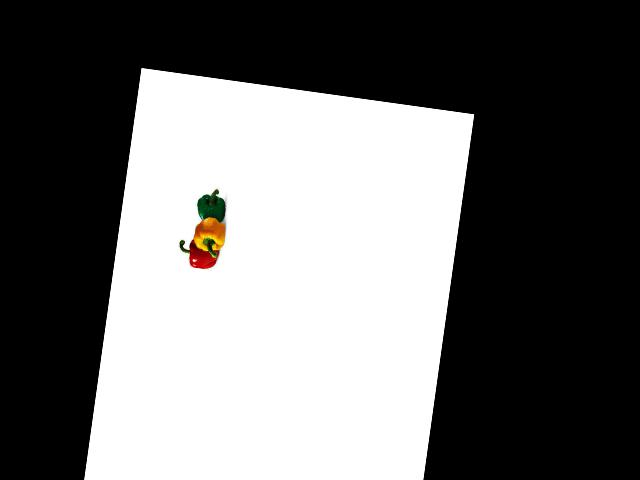bell_pepper: (192, 187, 230, 227)
